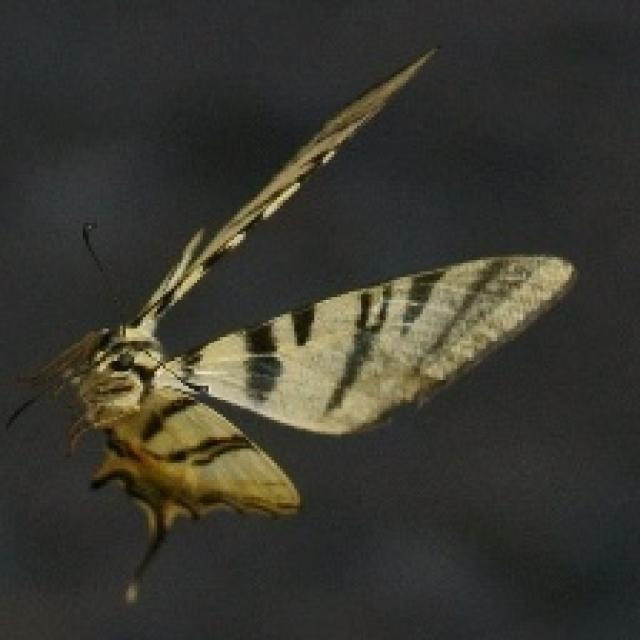butterfly: (0, 43, 577, 603)
